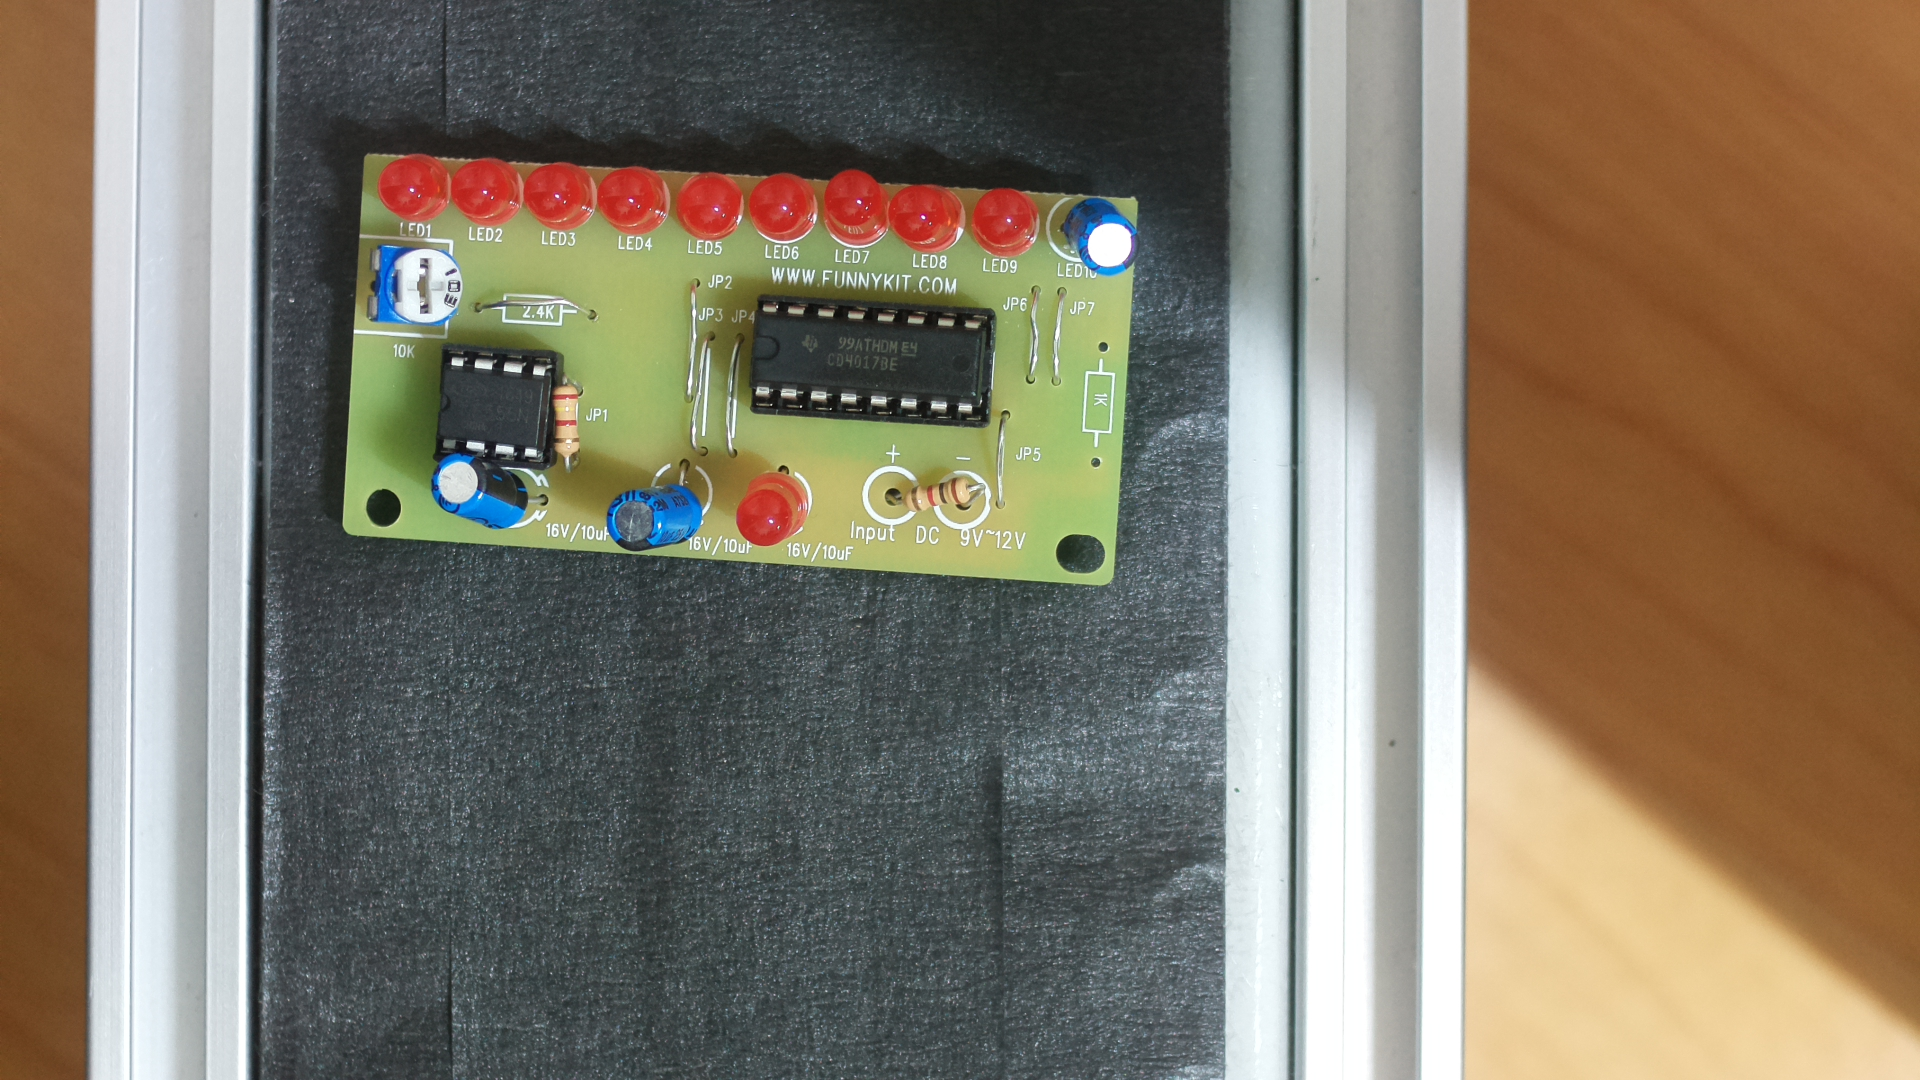B_Misordered: (339, 128, 1146, 611)
